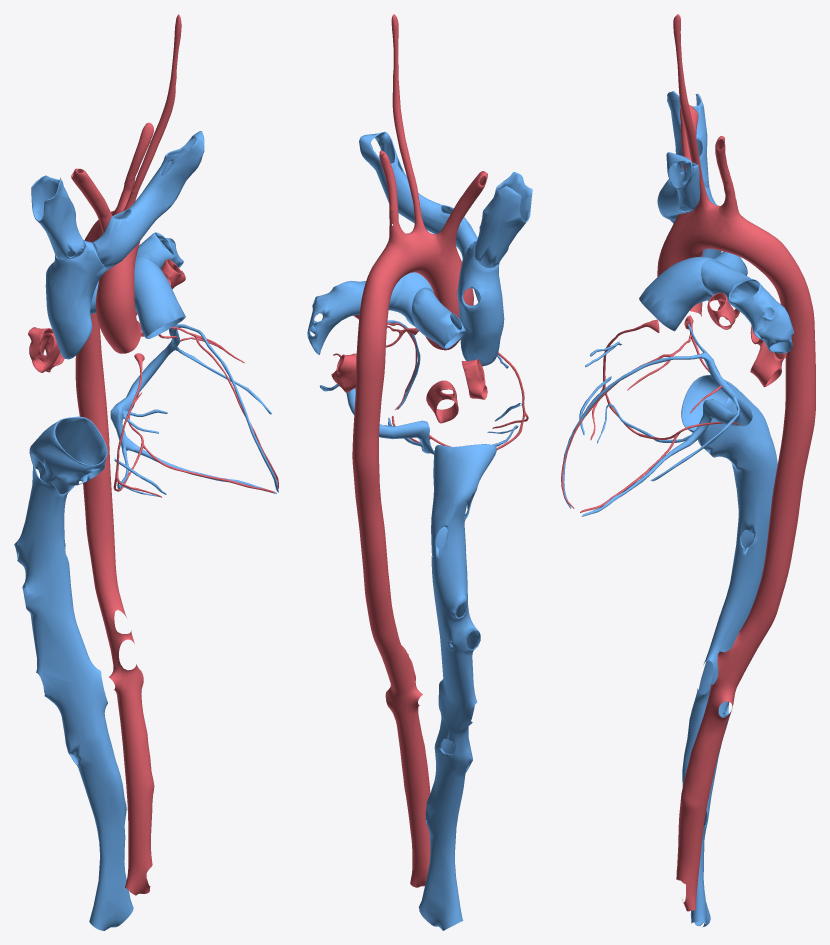
The model's file is heart_vessels.glb.
3 renders of one model, left to right at view 1: azimuth 30°, elevation 25°; view 2: azimuth 150°, elevation 25°; view 3: azimuth 270°, elevation 25°, orthographic. The views are drawn at different scales.
Parts seen in each view (by area): view 1: VH_M_pulmonary_artery_L, VH_M_aortic_arch, VH_M_coronary_sinus; view 2: VH_M_pulmonary_artery_L, VH_M_aortic_arch, VH_M_coronary_sinus; view 3: VH_M_aortic_arch, VH_M_pulmonary_artery_L, VH_M_coronary_sinus.
Boxes of the visible parts, x1,y1,x2,y2 form: VH_M_pulmonary_artery_L: (14,131,278,930); VH_M_aortic_arch: (28,14,278,895); VH_M_coronary_sinus: (110,324,272,450); VH_M_pulmonary_artery_L: (307,131,532,930); VH_M_aortic_arch: (331,14,528,887); VH_M_coronary_sinus: (319,384,434,454); VH_M_aortic_arch: (561,14,815,911); VH_M_pulmonary_artery_L: (561,91,793,927); VH_M_coronary_sinus: (650,348,752,481).
Bounding box in the file's own units: 0.1302 × 0.5142 × 0.1257.
